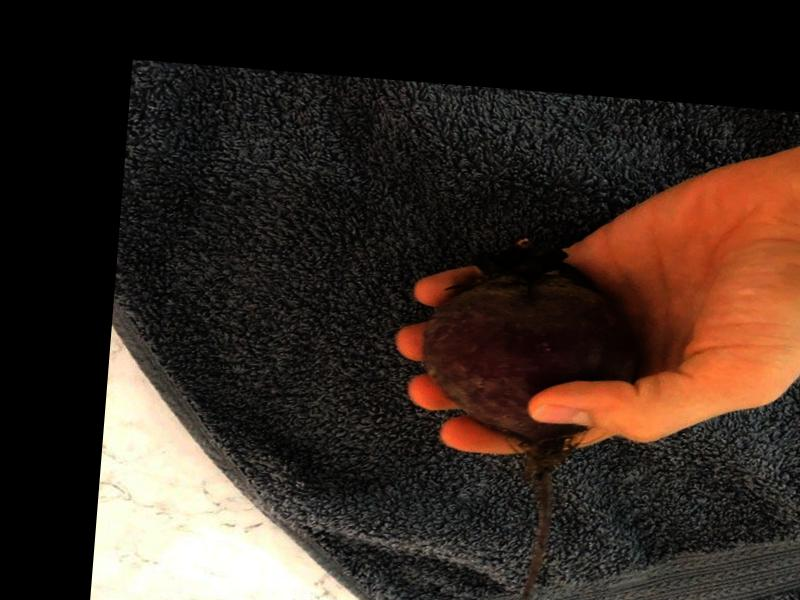Beet: (401, 239, 647, 600)
